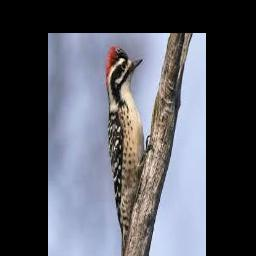Woodpecker: (104, 46, 154, 256)
